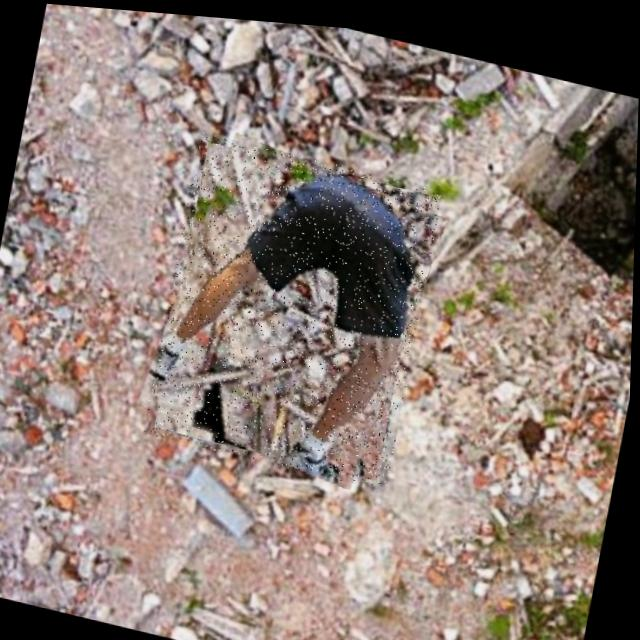Person in Rubble: (145, 125, 445, 488)
